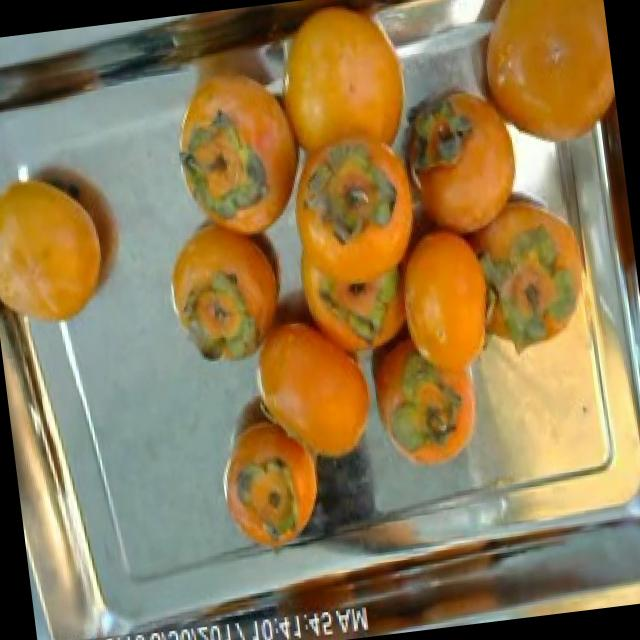Fruit: (149, 192, 308, 386), (237, 302, 387, 488), (0, 150, 139, 344), (356, 300, 500, 486), (204, 408, 337, 555)
